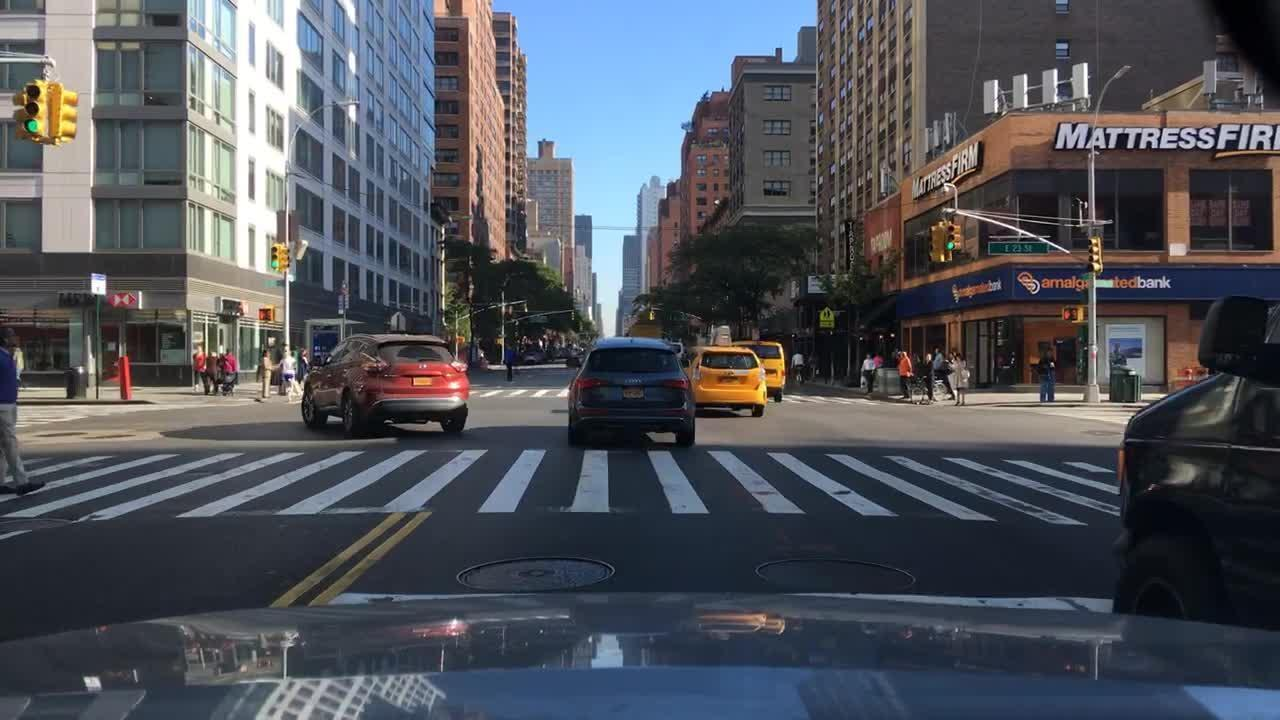Audi: (619, 373, 649, 392)
